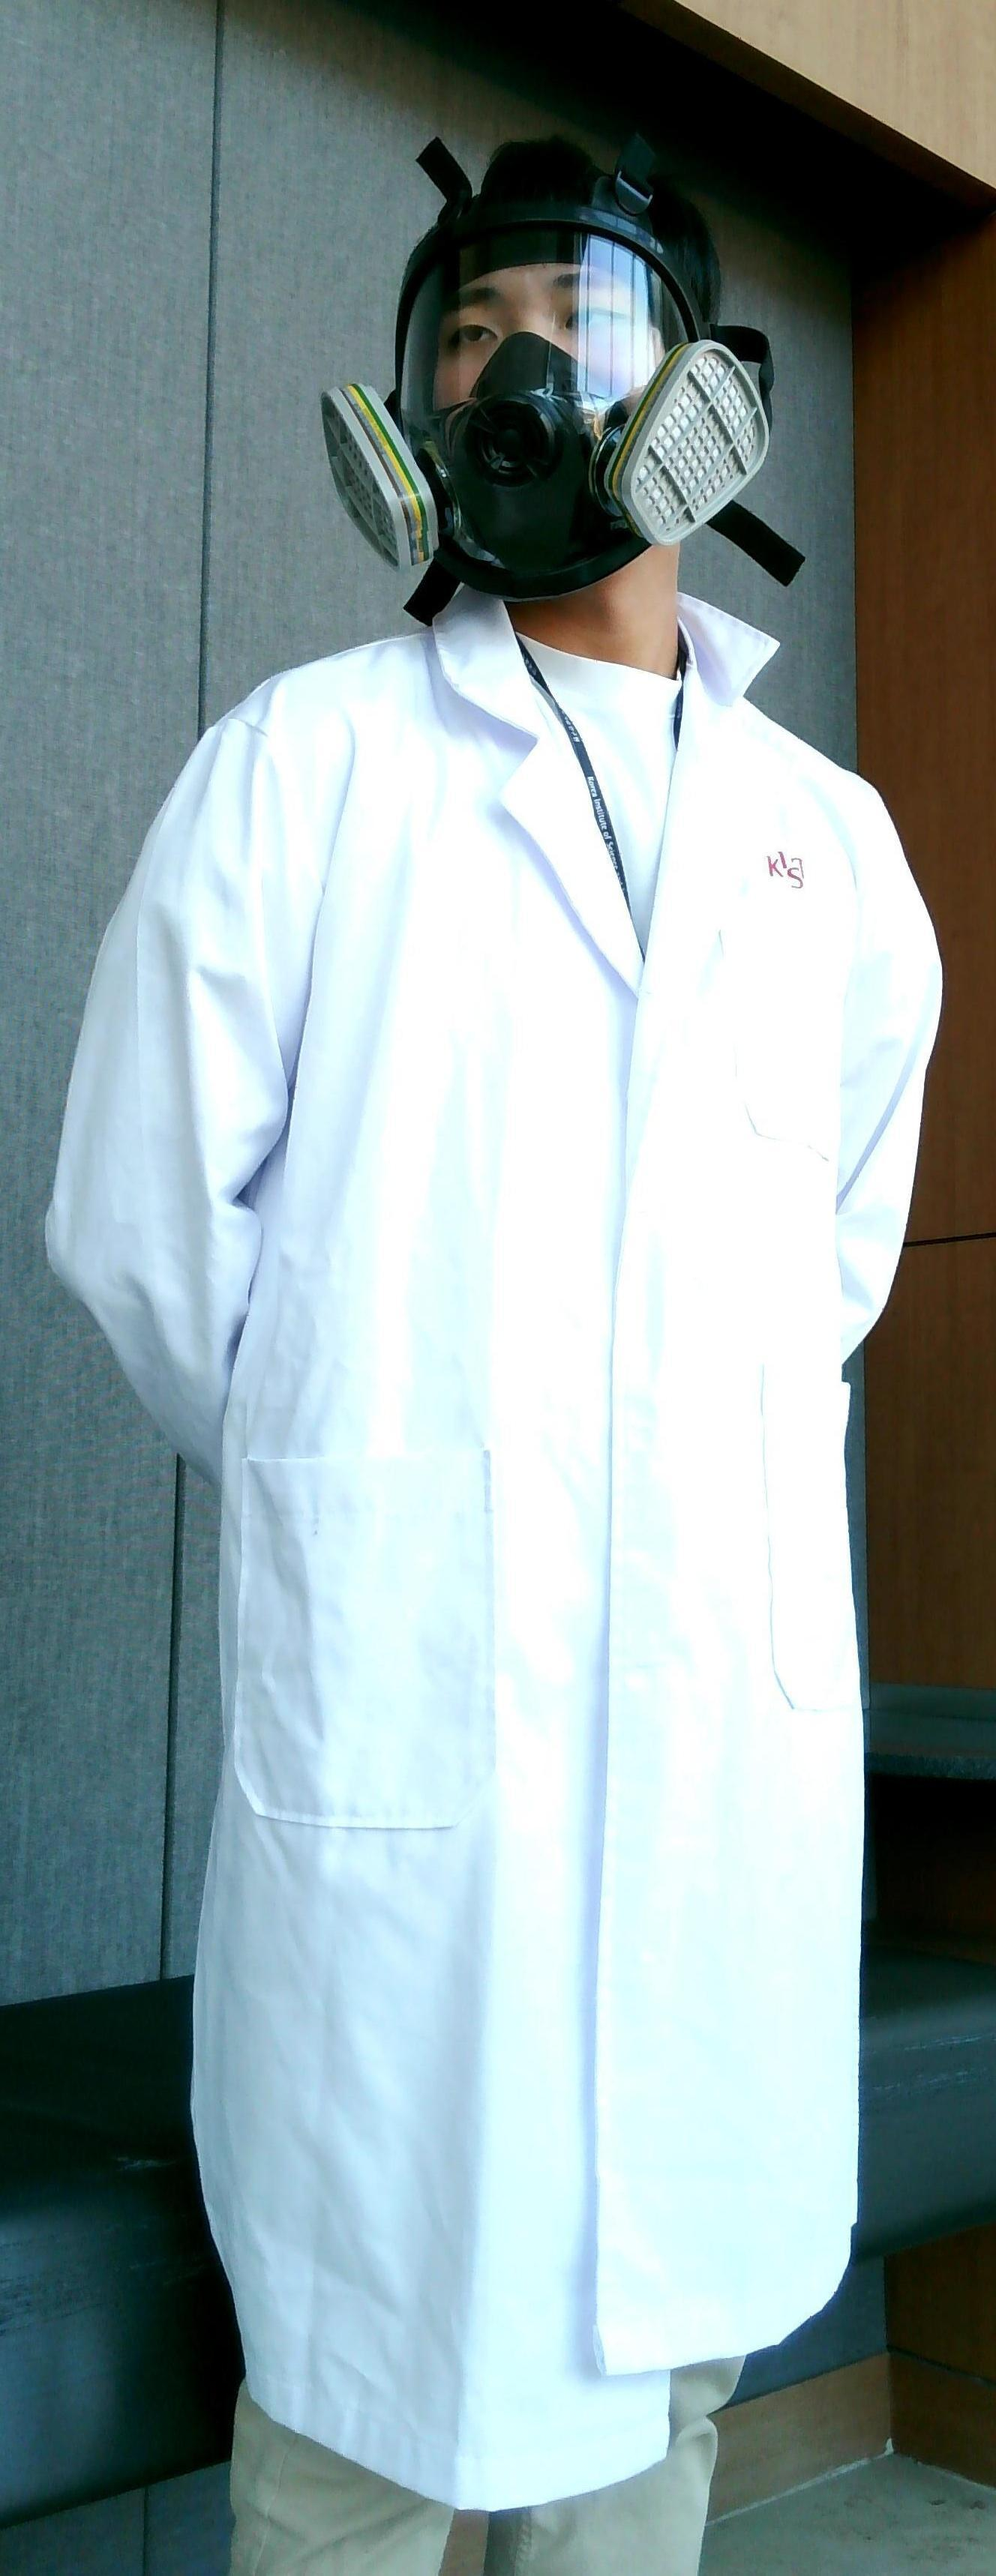lab_coat: (54, 669, 935, 2334)
